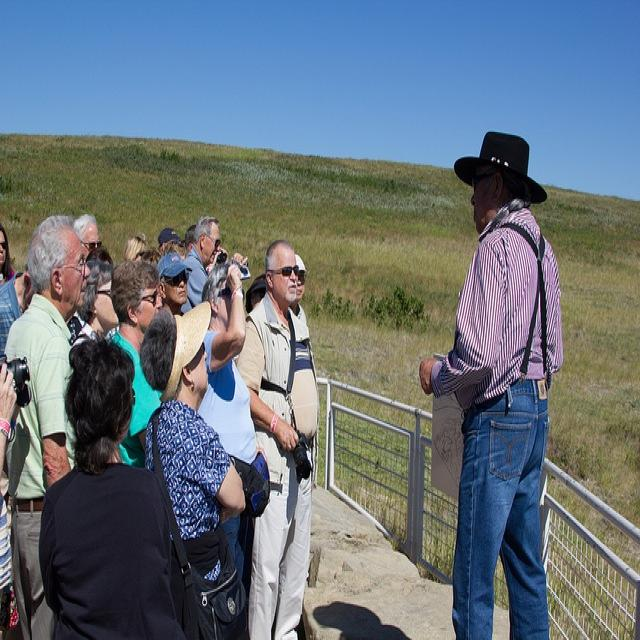body: (415, 123, 569, 638), (36, 332, 186, 640), (2, 211, 91, 640), (228, 237, 323, 638), (138, 298, 249, 638), (195, 258, 272, 583), (0, 223, 33, 640), (105, 254, 166, 473), (282, 250, 322, 582), (72, 266, 122, 358), (180, 215, 222, 316), (123, 220, 197, 266), (74, 202, 109, 279), (156, 252, 194, 319), (64, 277, 95, 345), (242, 266, 272, 316)
